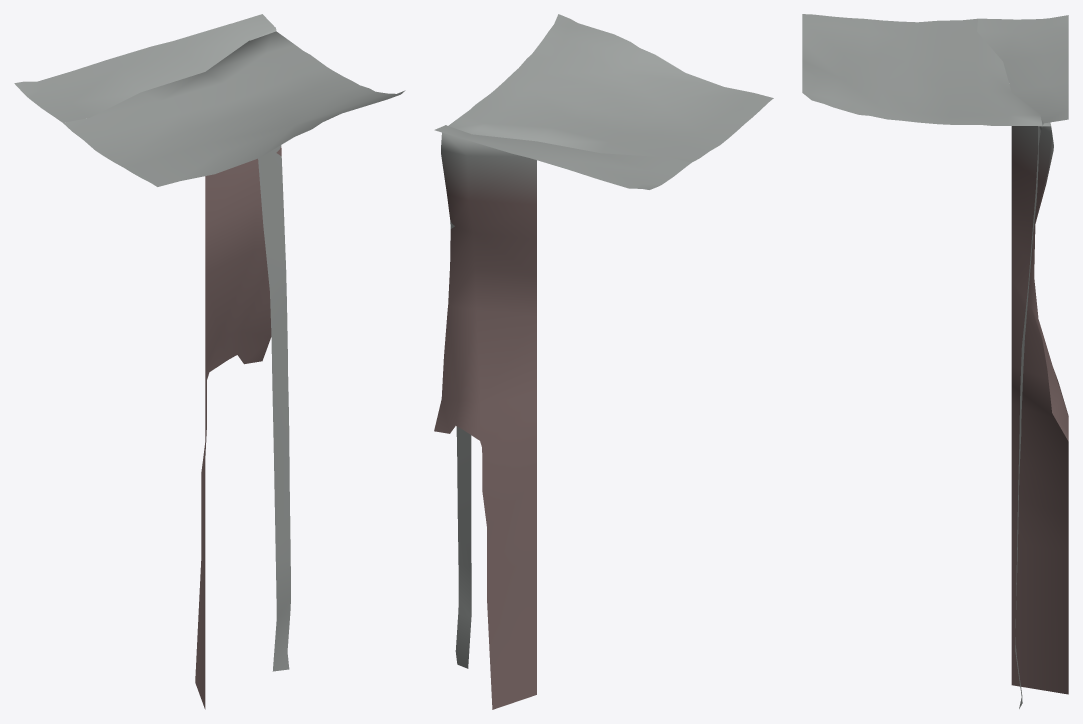
3 renders of one model, left to right at view 1: azimuth 30°, elevation 25°; view 2: azimuth 150°, elevation 25°; view 3: azimuth 270°, elevation 25°, orthographic. The views are drawn at different scales.
Visible parts, largest first — view 1: G:\FFXIV-MapTools\exports\u5f1\bg\ex4\04_uvs_u5\fld\u5f1\bgp (×5); view 2: G:\FFXIV-MapTools\exports\u5f1\bg\ex4\04_uvs_u5\fld\u5f1\bgp (×7); view 3: G:\FFXIV-MapTools\exports\u5f1\bg\ex4\04_uvs_u5\fld\u5f1\bgp (×6).
Boxes of the visible parts, x1=… form: G:\FFXIV-MapTools\exports\u5f1\bg\ex4\04_uvs_u5\fld\u5f1\bgp (×5): x1=14, y1=14, x2=405, y2=709; G:\FFXIV-MapTools\exports\u5f1\bg\ex4\04_uvs_u5\fld\u5f1\bgp (×7): x1=434, y1=14, x2=773, y2=709; G:\FFXIV-MapTools\exports\u5f1\bg\ex4\04_uvs_u5\fld\u5f1\bgp (×6): x1=802, y1=14, x2=1068, y2=708.
Size of the model in its own units: 128 by 335 by 128.
